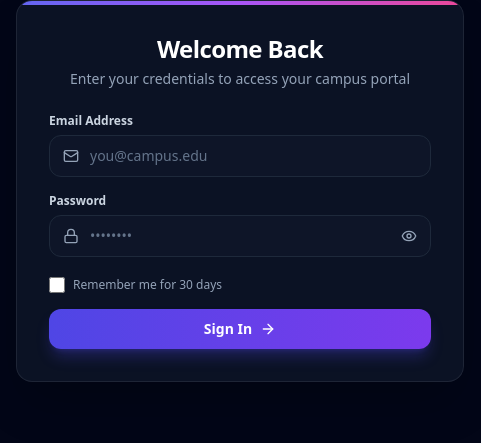
LoginForm Component › validates invalid email format
This screenshot has width=481, height=443.
Type "invalid-email-string" into the field labelled "Email Address" at (240, 156), box [49,135,431,177]
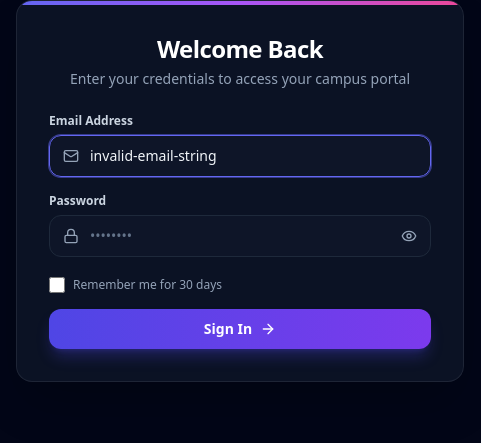
Click the button "Sign In" at (240, 329), box [49,309,431,349]
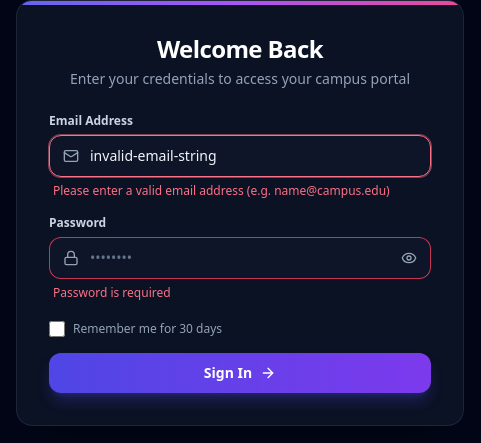
Check: the text "Please enter a valid email address (e.g. name@campus.edu)" is shown, box [49,183,431,199]
